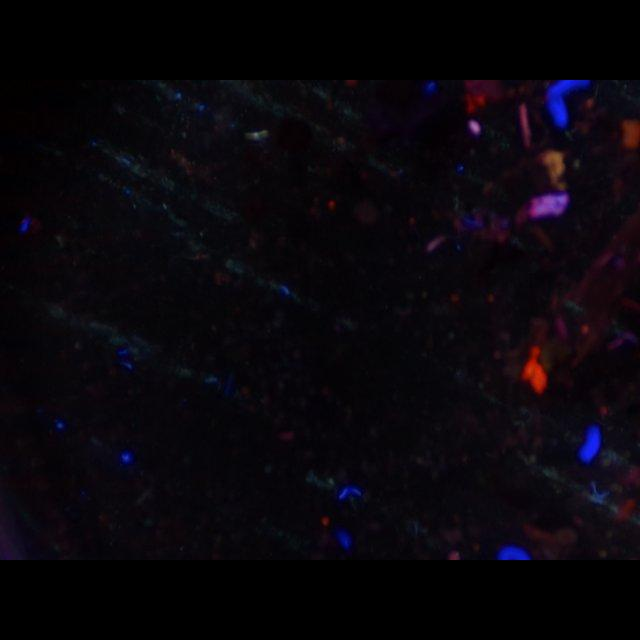microbeads: (244, 130, 270, 142)
